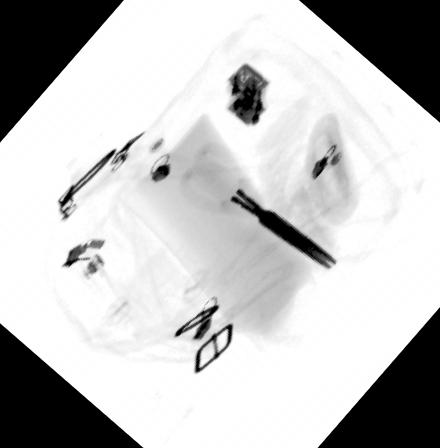Scissors: (175, 136, 339, 271)
